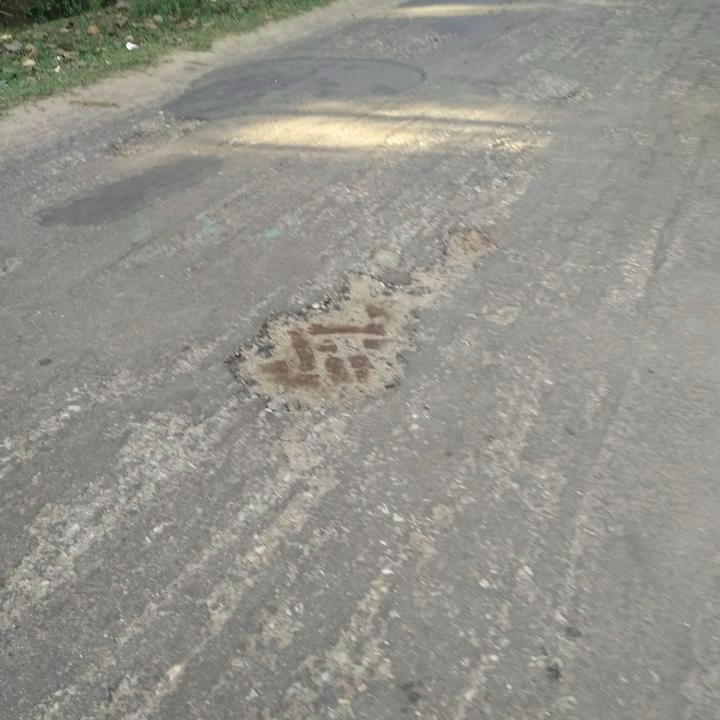pothole: (214, 267, 426, 420), (102, 110, 210, 157), (439, 223, 494, 273)
